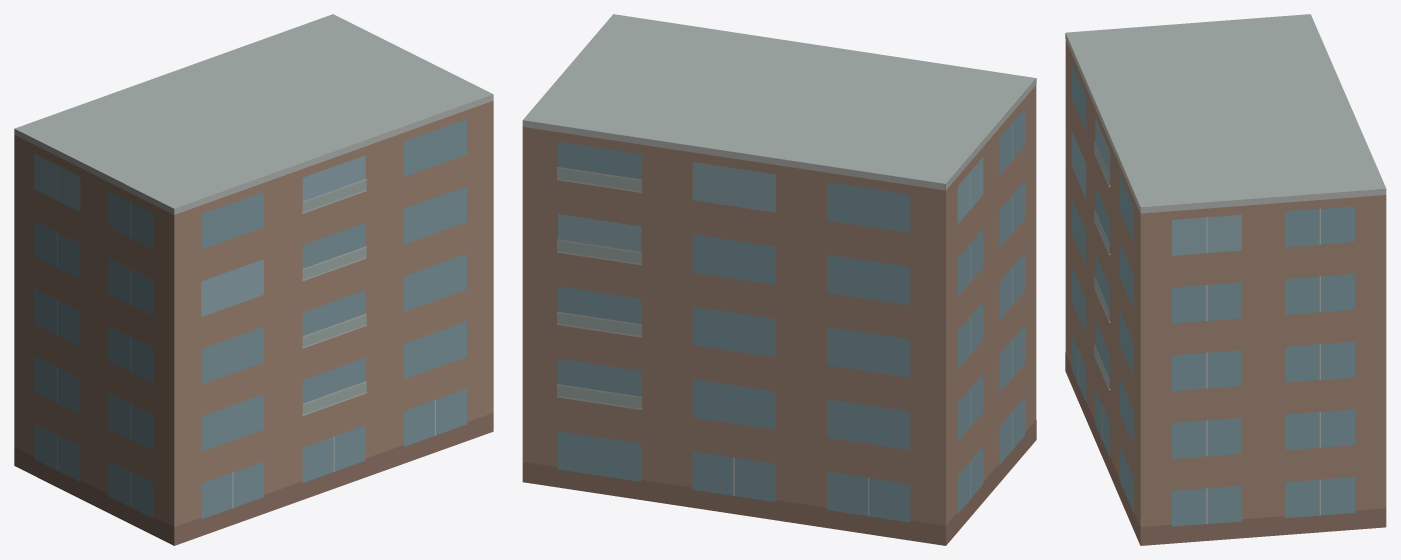
Rendered from survey-upis-32696576.glb.
3 renders of one model, left to right at view 1: azimuth 30°, elevation 25°; view 2: azimuth 150°, elevation 25°; view 3: azimuth 270°, elevation 25°, orthographic. The views are drawn at different scales.
Parts seen in each view (by area): view 1: survey-upis-32696576.tmp; view 2: survey-upis-32696576.tmp; view 3: survey-upis-32696576.tmp.
Part boxes in pixels (<box>): survey-upis-32696576.tmp: <box>14,14,493,545</box>; survey-upis-32696576.tmp: <box>522,14,1036,545</box>; survey-upis-32696576.tmp: <box>1065,14,1386,545</box>.
Bounding box in the file's own units: 16.3 × 13.3 × 11.44.
